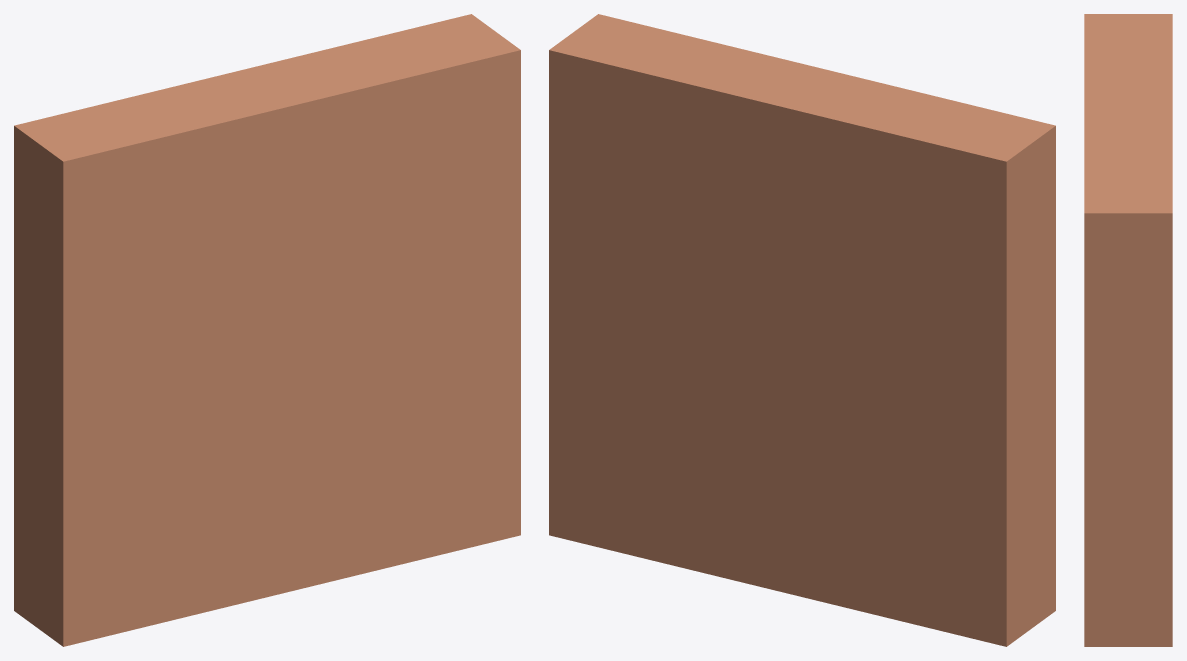
3 views of the same model, side by side, from view 1: azimuth 30°, elevation 25°; view 2: azimuth 150°, elevation 25°; view 3: azimuth 270°, elevation 25° (orthographic). The views are drawn at different scales.
Visible parts, largest first — view 1: GF-L12-BLK-REDLINE-B2-B3-038; view 2: GF-L12-BLK-REDLINE-B2-B3-038; view 3: GF-L12-BLK-REDLINE-B2-B3-038.
Boxes of the visible parts, x1=… form: GF-L12-BLK-REDLINE-B2-B3-038: x1=14, y1=14, x2=520, y2=646; GF-L12-BLK-REDLINE-B2-B3-038: x1=549, y1=14, x2=1055, y2=646; GF-L12-BLK-REDLINE-B2-B3-038: x1=1084, y1=14, x2=1172, y2=646.
Size of the model in its own units: 0.1875 by 0.19 by 0.035.
